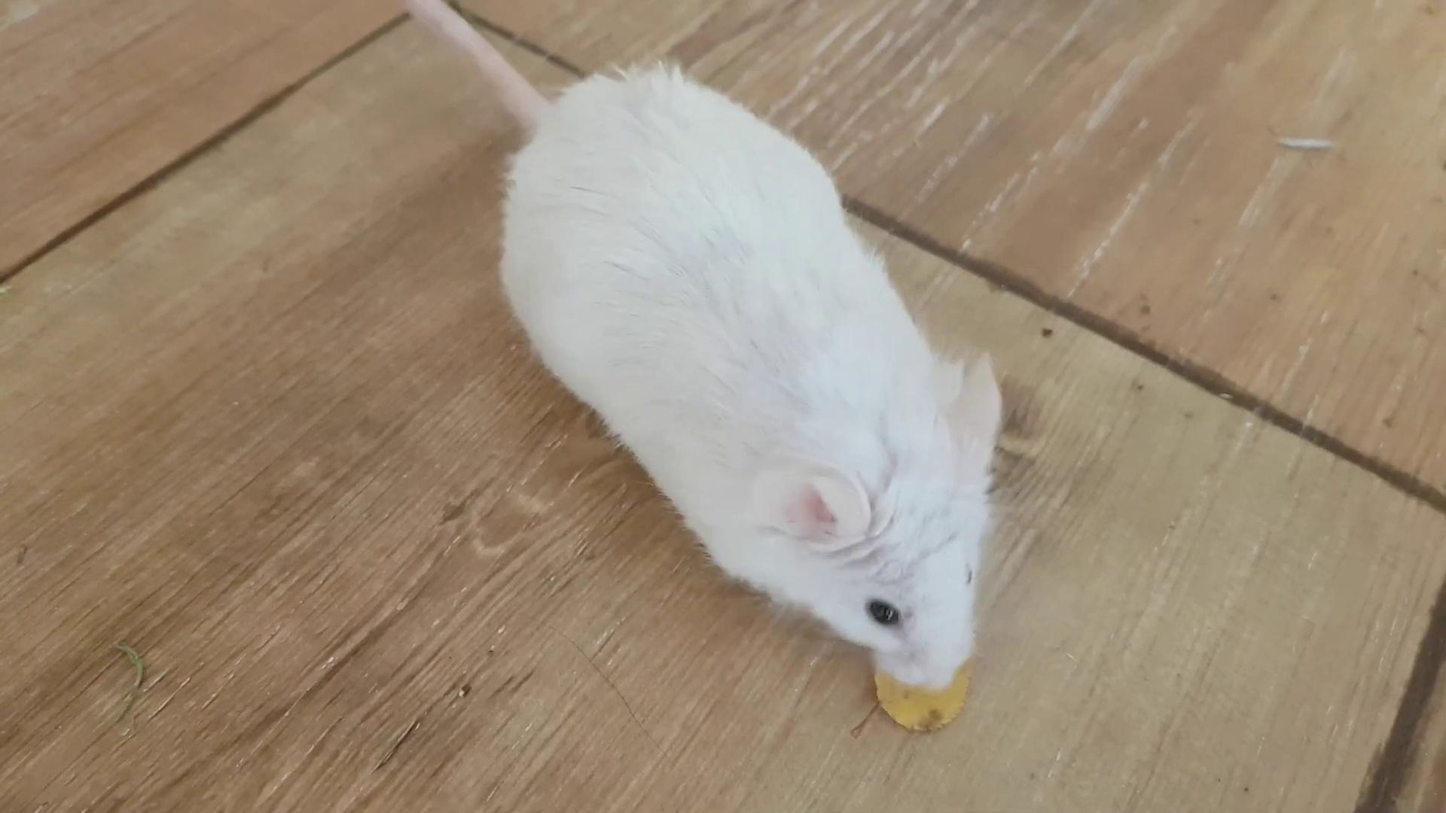rat: (406, 0, 1005, 695)
